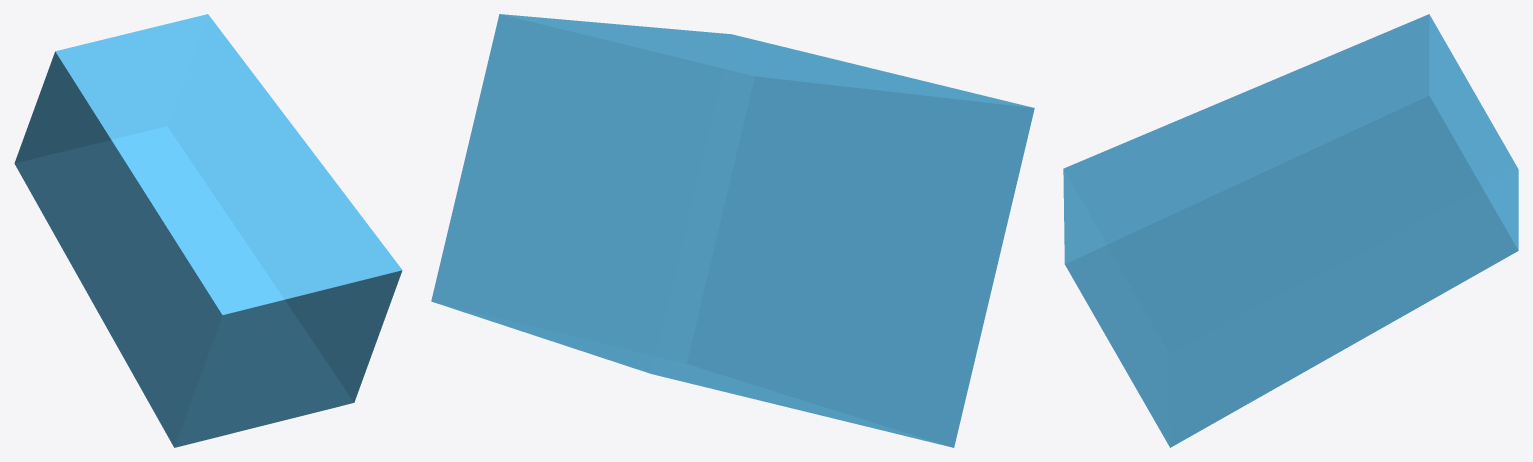
The model's file is Event_421364160_HBrechit_26.fbx.
3 views of the same model, side by side, from view 1: azimuth 30°, elevation 25°; view 2: azimuth 150°, elevation 25°; view 3: azimuth 270°, elevation 25° (orthographic). The views are drawn at different scales.
Visible parts, largest first — view 1: Model; view 2: Model; view 3: Model.
Part boxes in pixels (box(x1,y1,x2,y2)): Model: box(14, 14, 402, 447); Model: box(431, 14, 1034, 447); Model: box(1063, 14, 1518, 447).
Size of the model in its own units: 0.4739 by 0.776 by 0.9462.
